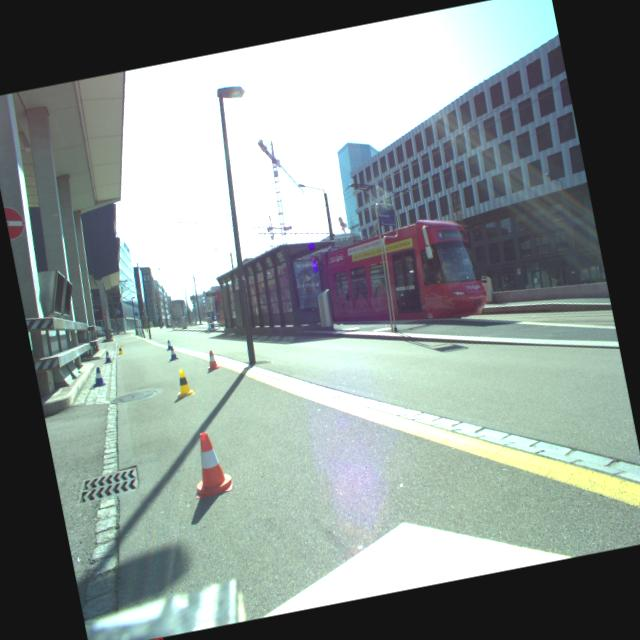blue_cone: (90, 367, 106, 388), (168, 346, 178, 360), (102, 351, 112, 364), (166, 340, 173, 350)
orange_cone: (184, 429, 234, 499), (204, 350, 220, 370)
yellow_cone: (173, 368, 195, 397), (118, 345, 124, 355)
